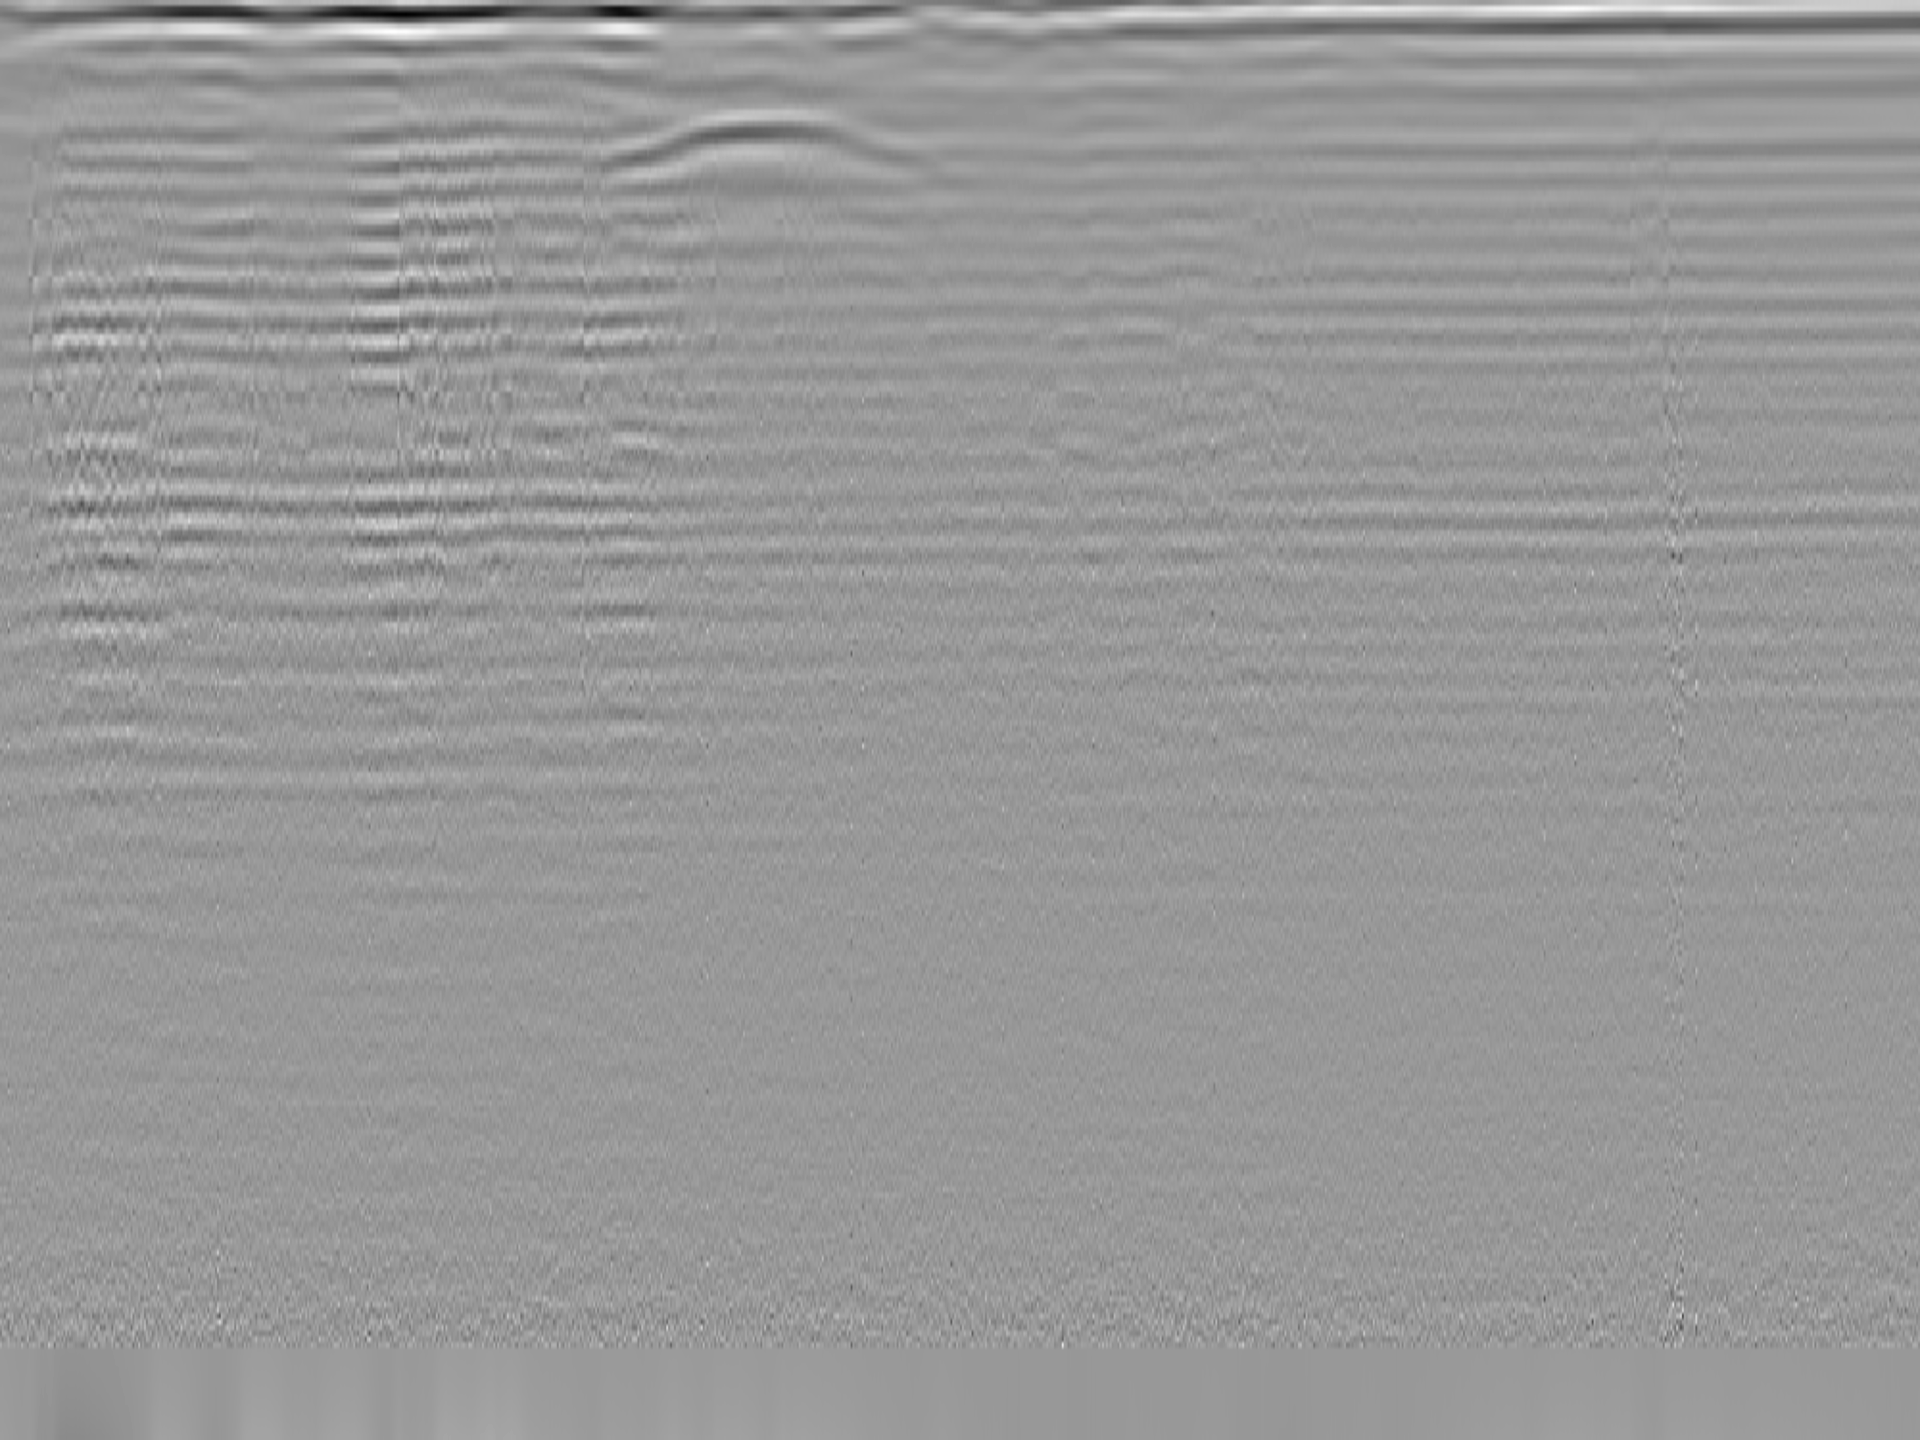Tunnel: (609, 109, 930, 166)
